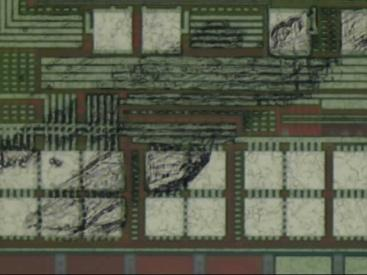SCRATCH: (1, 1, 367, 241)
